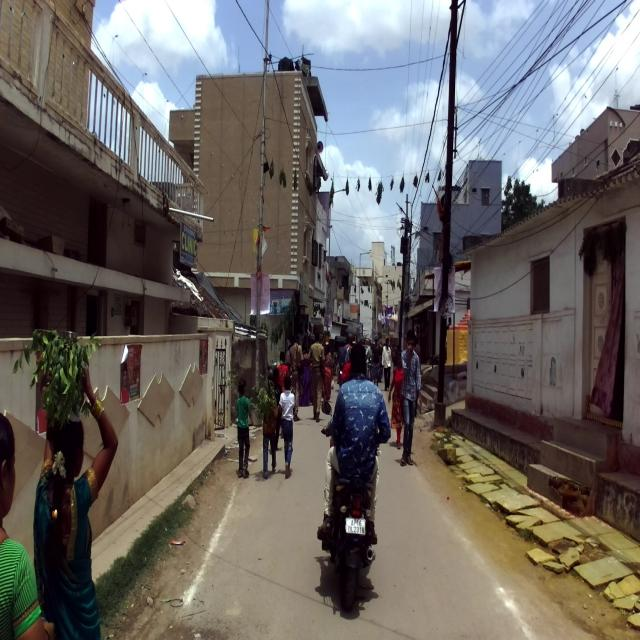motorcycle: (319, 399, 383, 612)
